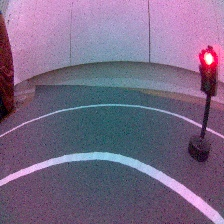red: (186, 44, 220, 168)
